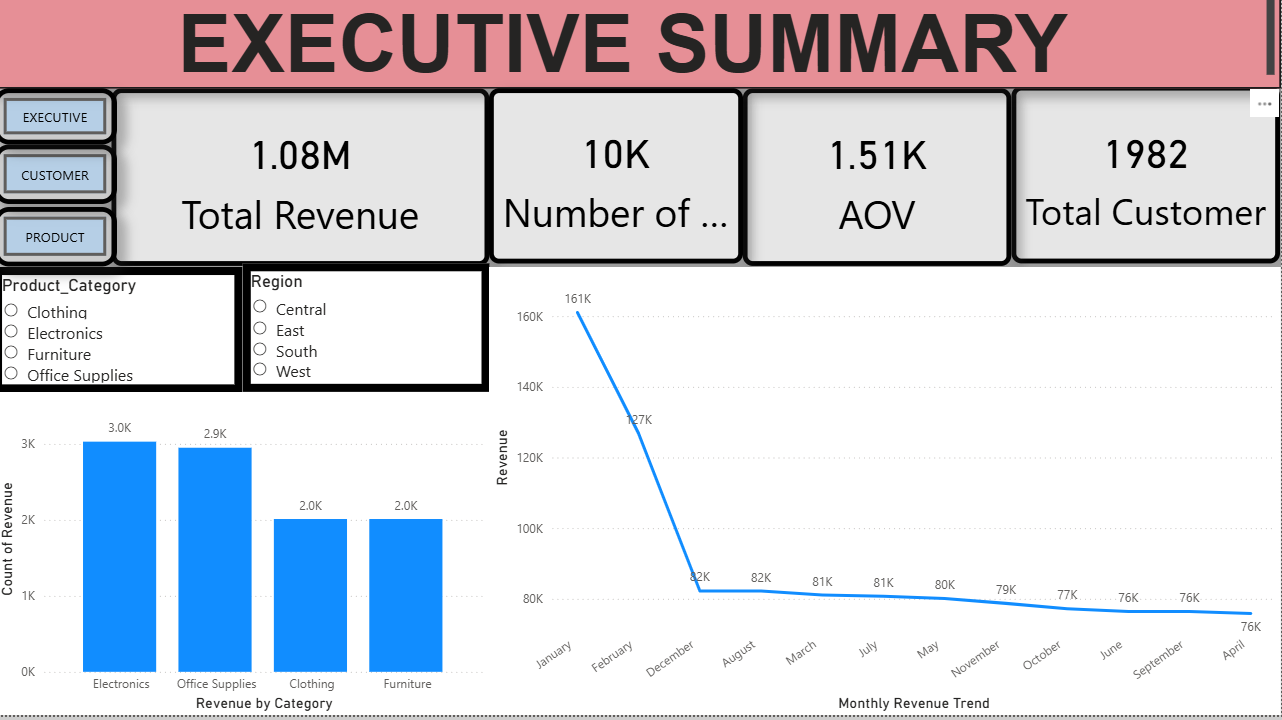

The page's visual inventory and layout, read from the dashboard file:
{"tool":"powerbi","page":{"name":"Executive","canvas":[1280,720],"ordinal":0},"visuals":[{"type":"card","fields":{"Values":["Count(cleaned_retail_sales.Customer_Name)"]},"box":[1012.7,93.3,267.6,177],"z":0},{"type":"card","fields":{"Values":["Sum(monthly_kpis.Revenue)"]},"box":[116.6,96.1,376,177],"z":1000},{"type":"card","fields":{"Values":["Sum(monthly_kpis.AOV)"]},"box":[745.1,96.1,267.6,177],"z":2000},{"type":"textbox","box":[0,0,1280.3,96.1],"z":3000},{"type":"card","fields":{"Values":["Sum(monthly_kpis.Orders)"]},"box":[492.6,96.1,252.5,174.3],"z":4000},{"type":"listSlicer","fields":{"Values":["cleaned_retail_sales.Region"]},"box":[247,270.3,245.6,127.6],"z":5000},{"type":"listSlicer","fields":{"Values":["cleaned_retail_sales.Product_Category"]},"box":[0,273.1,247,124.9],"z":6000},{"type":"columnChart","fields":{"Category":["cleaned_retail_sales.Product_Category"],"Y":["CountNonNull(cleaned_retail_sales.Revenue)"]},"box":[0,397.9,492.6,322.5],"z":7000},{"type":"actionButton","box":[0,152.3,122.1,59],"z":8000},{"type":"actionButton","box":[0,214.1,122.1,59],"z":9000},{"type":"actionButton","box":[0,96.1,122.1,56.3],"z":10000},{"type":"lineChart","fields":{"Category":["cleaned_retail_sales.Month_Name"],"Y":["Sum(cleaned_retail_sales.Revenue)"]},"box":[492.6,273.1,787.7,447.3],"z":11000}]}

Visuals, with their boxes in screenshot pixels (x1, y1, x2, y2), scaled from the page's 1280x720 canvas onto the 1282x720 screenshot:
card - Count(cleaned_retail_sales.Customer_Name): pyautogui.locateOnScreen(1014, 93, 1281, 270)
card - Sum(monthly_kpis.Revenue): pyautogui.locateOnScreen(117, 96, 493, 273)
card - Sum(monthly_kpis.AOV): pyautogui.locateOnScreen(746, 96, 1014, 273)
textbox: pyautogui.locateOnScreen(0, 0, 1281, 96)
card - Sum(monthly_kpis.Orders): pyautogui.locateOnScreen(493, 96, 746, 270)
listSlicer - cleaned_retail_sales.Region: pyautogui.locateOnScreen(247, 270, 493, 398)
listSlicer - cleaned_retail_sales.Product_Category: pyautogui.locateOnScreen(0, 273, 247, 398)
columnChart - cleaned_retail_sales.Product_Category x CountNonNull(cleaned_retail_sales.Revenue): pyautogui.locateOnScreen(0, 398, 493, 719)
actionButton: pyautogui.locateOnScreen(0, 152, 122, 211)
actionButton: pyautogui.locateOnScreen(0, 214, 122, 273)
actionButton: pyautogui.locateOnScreen(0, 96, 122, 152)
lineChart - cleaned_retail_sales.Month_Name x Sum(cleaned_retail_sales.Revenue): pyautogui.locateOnScreen(493, 273, 1281, 719)
